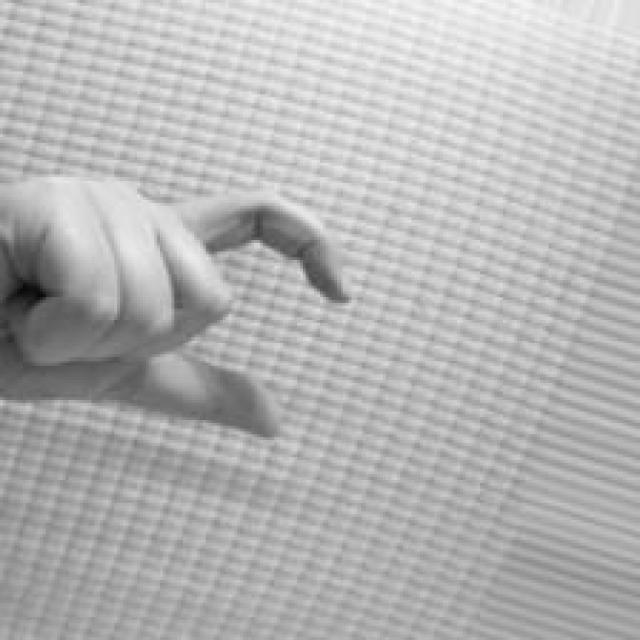C: (1, 166, 353, 442)
